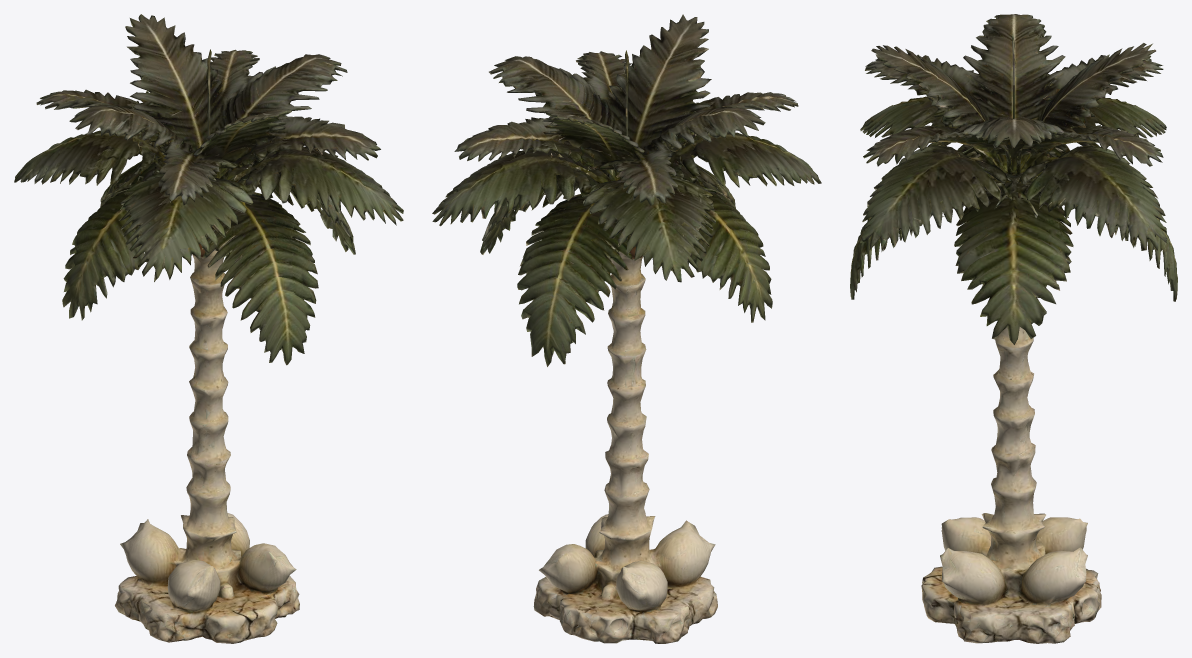
Rendered from Palm Tree_final.glb.
3 renders of one model, left to right at view 1: azimuth 30°, elevation 25°; view 2: azimuth 150°, elevation 25°; view 3: azimuth 270°, elevation 25°, orthographic. The views are drawn at different scales.
Visible parts, largest first — view 1: Mesh_0; view 2: Mesh_0; view 3: Mesh_0.
Part boxes in pixels (<box>): Mesh_0: <box>14,14,403,643</box>; Mesh_0: <box>432,14,821,643</box>; Mesh_0: <box>850,14,1177,643</box>.
Bounding box in the file's own units: 7.8 × 15 × 7.74.
Materials: 1 (1 with a texture image).
